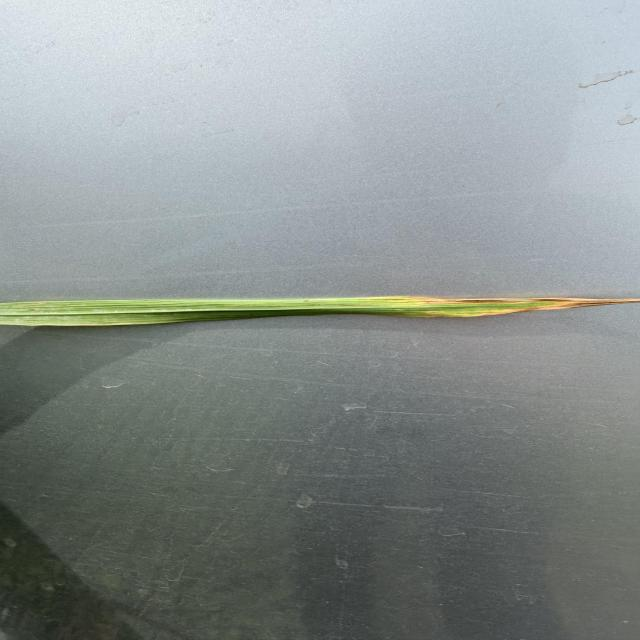Chay bia la: (407, 297, 640, 318)
